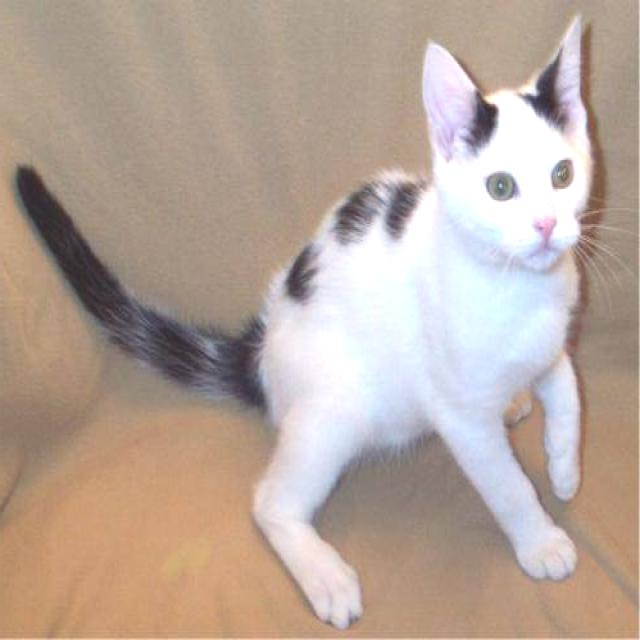Kucing: (58, 0, 622, 601)
